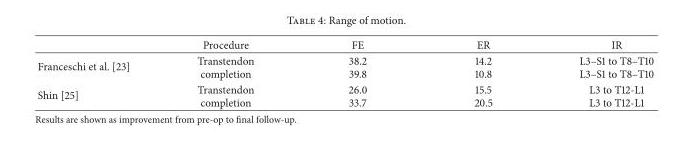table: (36, 36, 653, 109)
table column: (162, 36, 300, 109), (36, 36, 162, 109), (300, 36, 419, 109), (535, 36, 653, 109), (419, 36, 535, 109)
table column header: (36, 36, 653, 52)
table row: (36, 52, 653, 81), (36, 81, 653, 109), (36, 36, 653, 52)
